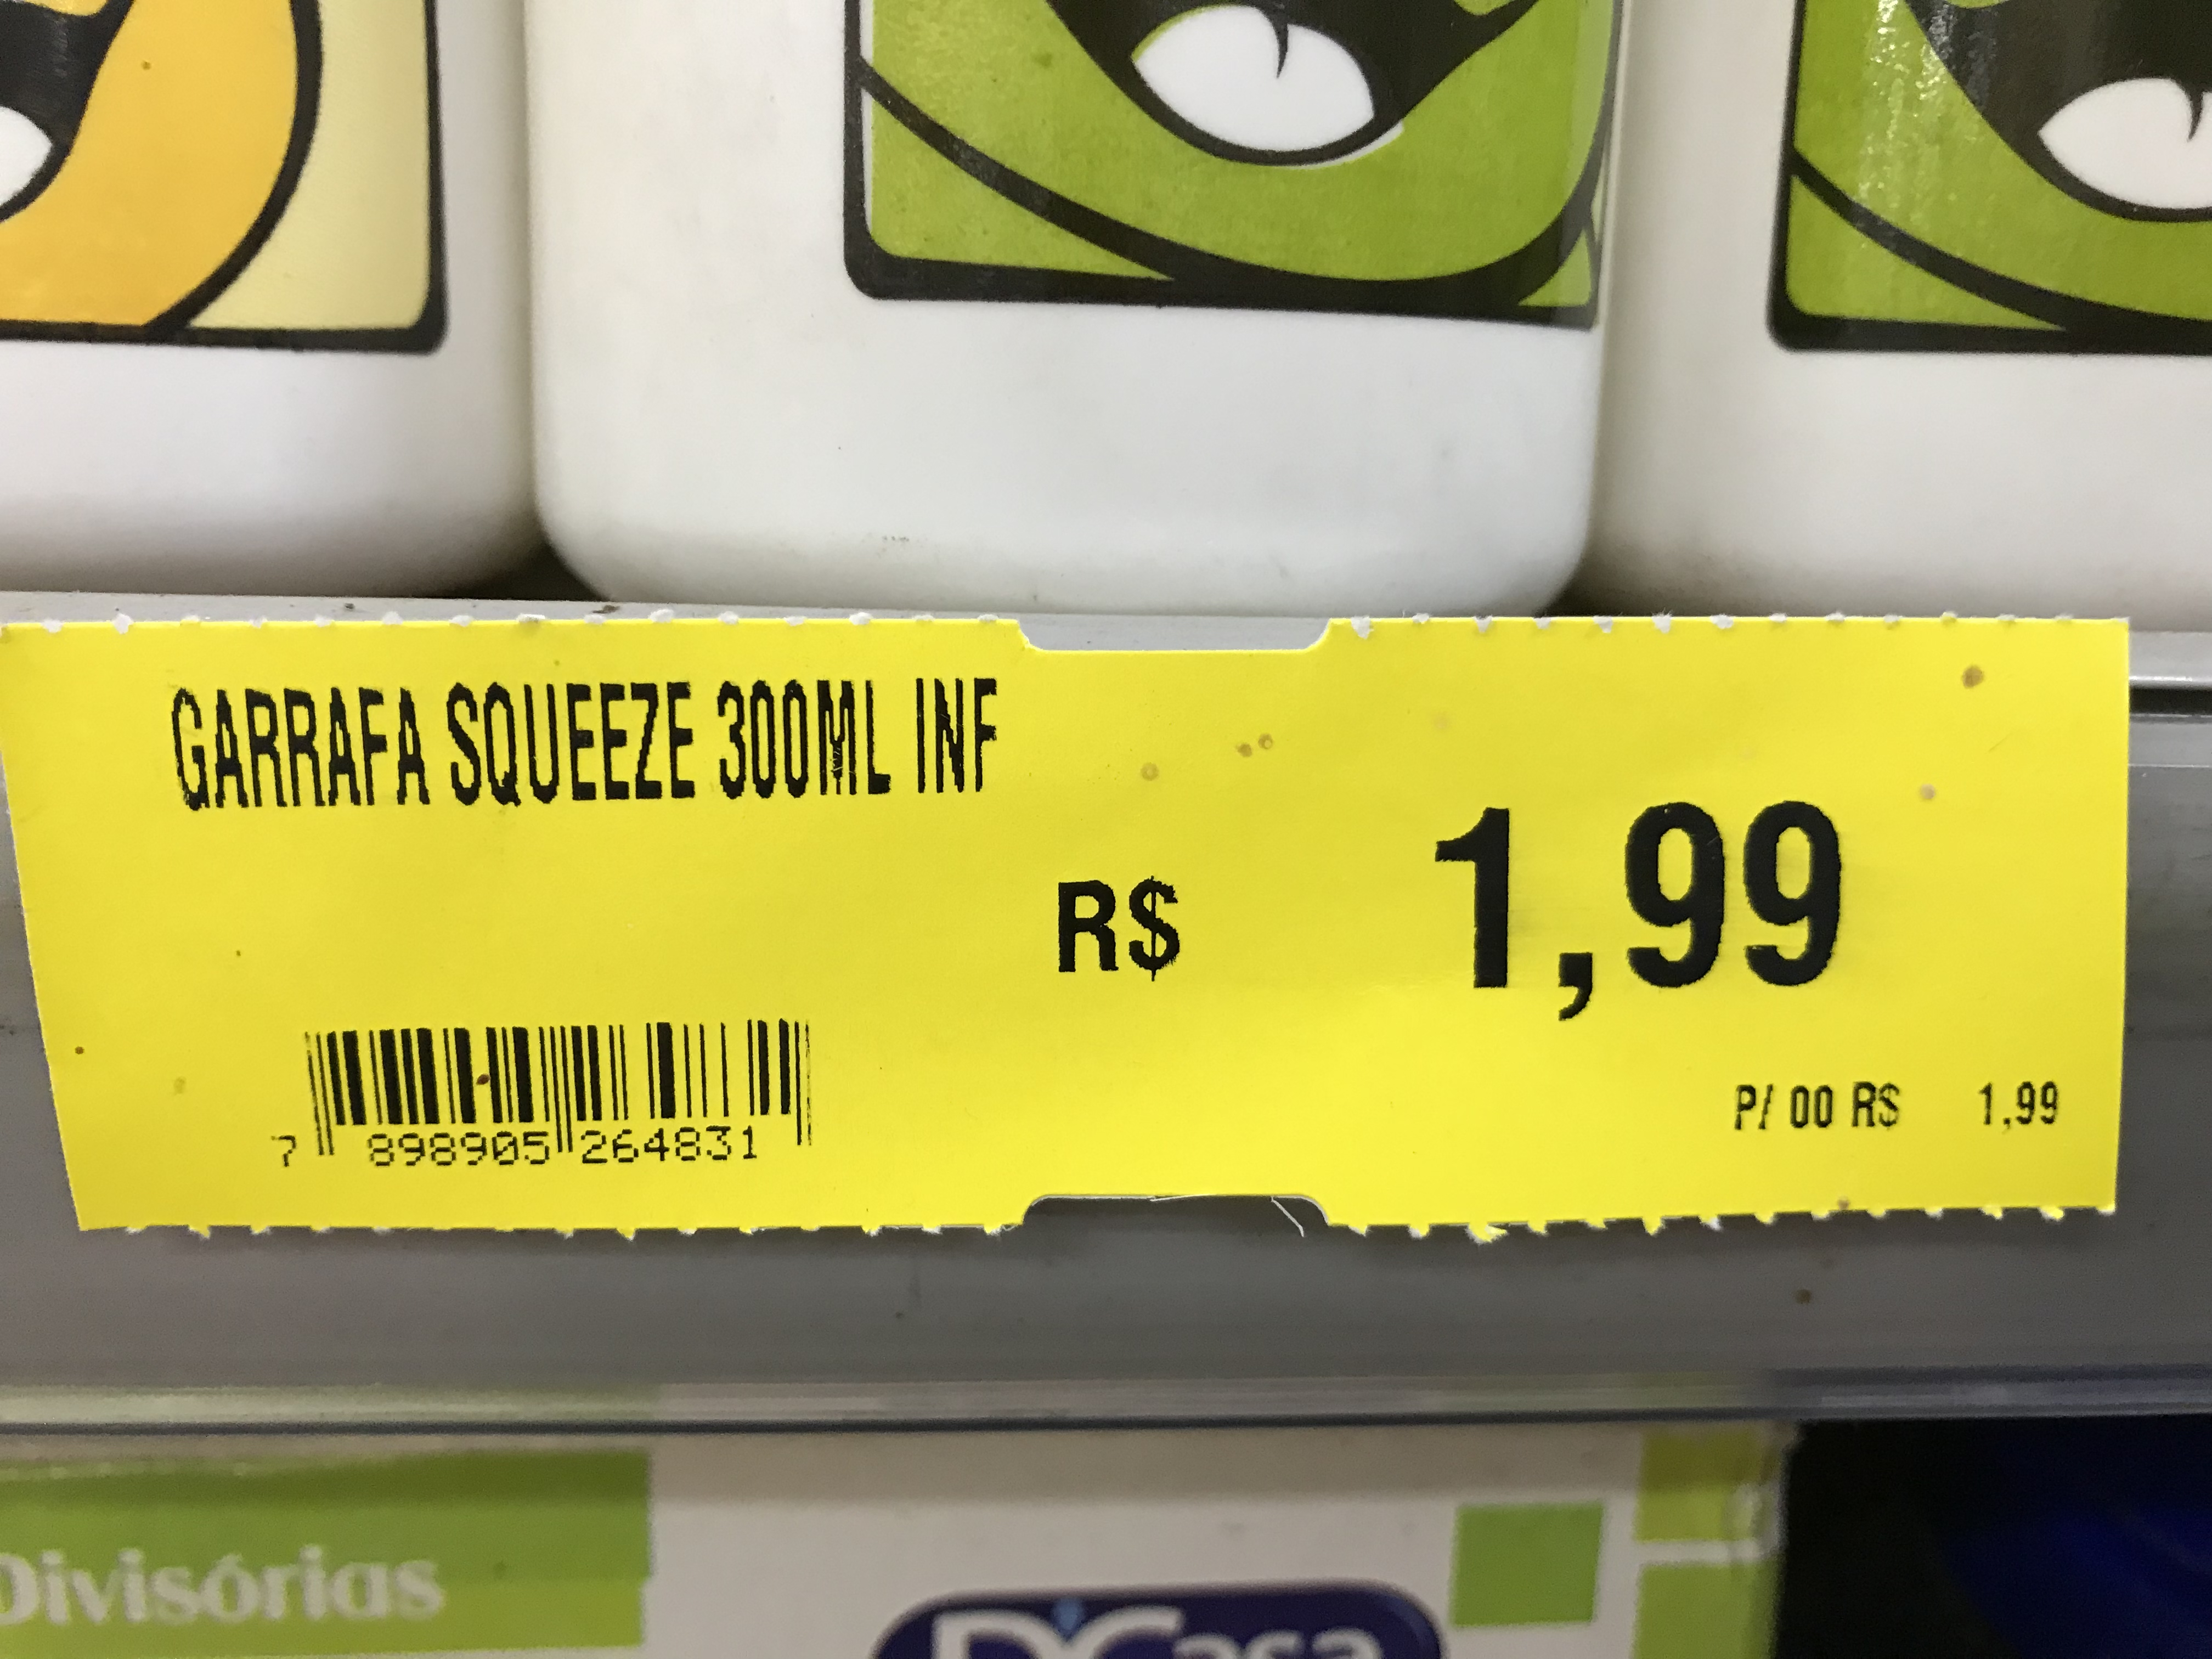estampa: (0, 601, 2151, 1260)
